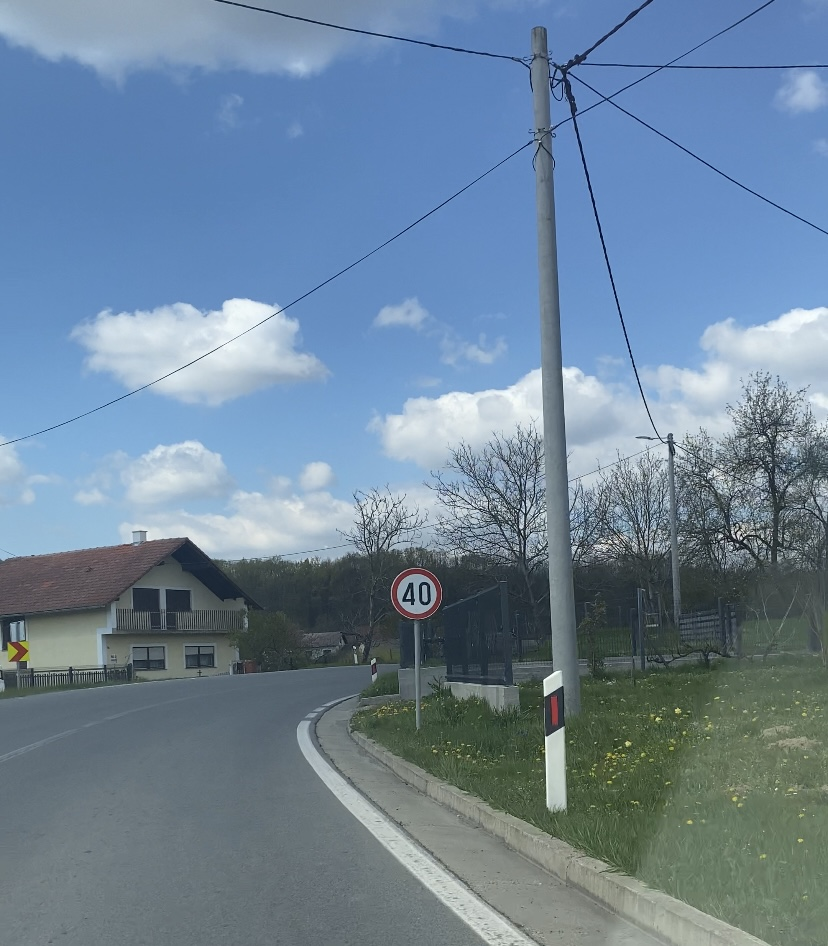Ograničenje brzine 40: (391, 567, 442, 619)
